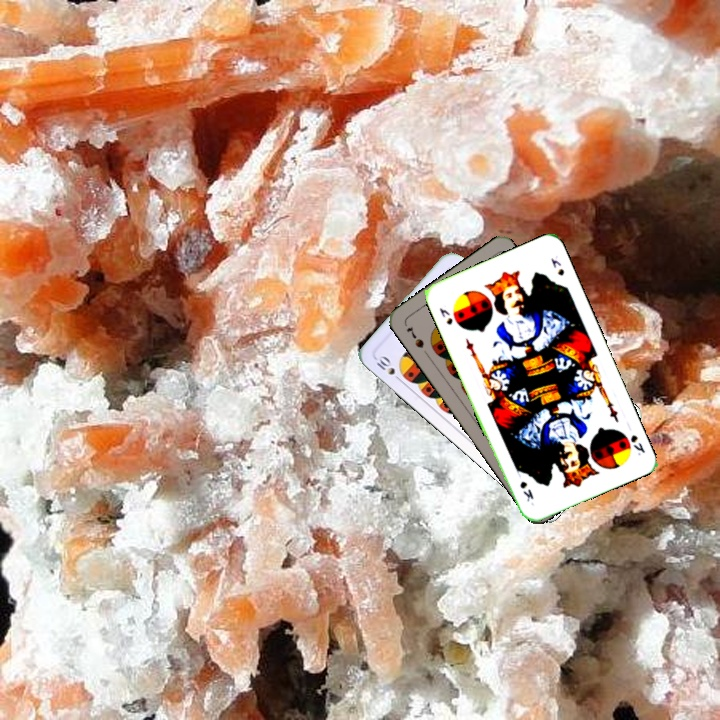S10: (371, 351, 405, 385)
S7: (402, 322, 427, 351)
SK: (626, 431, 648, 458), (435, 304, 455, 327)
